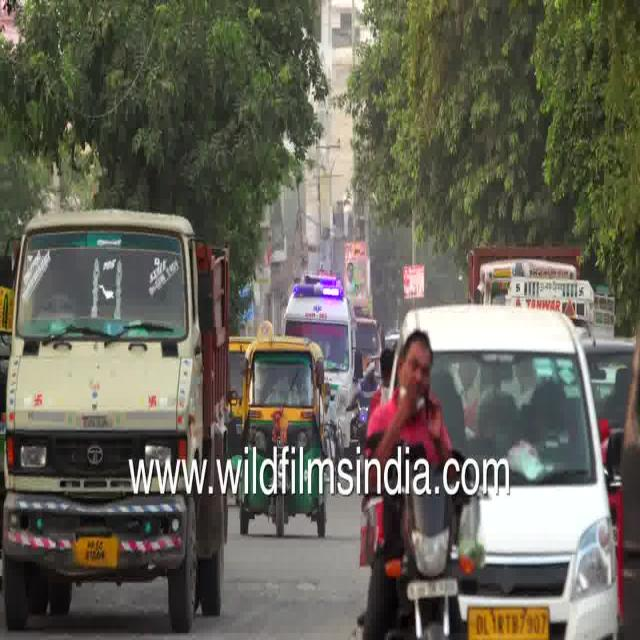ambulance: (273, 266, 356, 334)
